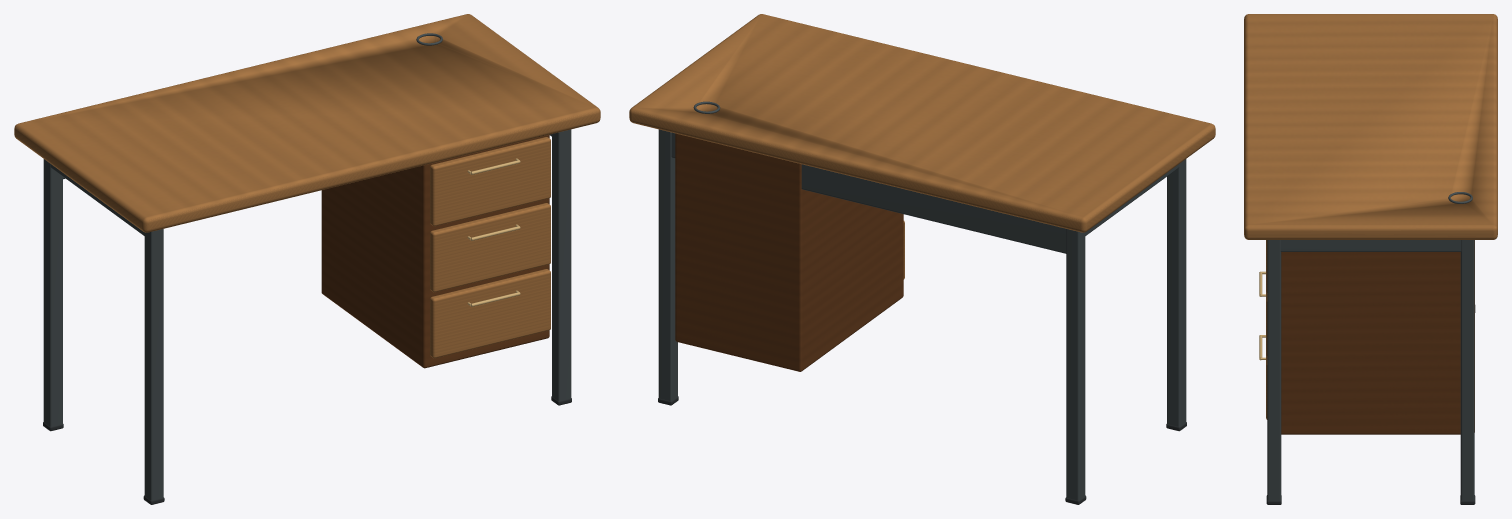
Rendered from desk.glb.
The picture shows the model from 3 angles, left to right: view 1: azimuth 30°, elevation 25°; view 2: azimuth 150°, elevation 25°; view 3: azimuth 270°, elevation 25°; orthographic projection. The views are drawn at different scales.
Visible parts, largest first — view 1: GEO-Solid oak desktop, GEO-Drawer cabinet, GEO-Floating drawer front, GEO-Floating drawer front.001, GEO-Floating drawer front.002, GEO-Square section steel leg.002, GEO-Square section steel leg, GEO-Square section steel leg.001; view 2: GEO-Solid oak desktop, GEO-Drawer cabinet, GEO-Rear cross rail, GEO-Square section steel leg.001, GEO-Square section steel leg, GEO-Square section steel leg.003; view 3: GEO-Solid oak desktop, GEO-Drawer cabinet, GEO-Square section steel leg.002, GEO-Square section steel leg.003, GEO-Side structural rail.001.
Boxes of the visible parts, box(x1,y1,x2,y2) form: GEO-Solid oak desktop: box(14, 14, 600, 232); GEO-Drawer cabinet: box(321, 134, 549, 368); GEO-Floating drawer front: box(430, 269, 550, 358); GEO-Floating drawer front.001: box(430, 203, 550, 292); GEO-Floating drawer front.002: box(430, 137, 550, 226); GEO-Square section steel leg.002: box(552, 129, 571, 400); GEO-Square section steel leg: box(144, 229, 163, 500); GEO-Square section steel leg.001: box(43, 159, 62, 426); GEO-Solid oak desktop: box(629, 14, 1215, 232); GEO-Drawer cabinet: box(675, 133, 903, 371); GEO-Rear cross rail: box(671, 132, 1066, 253); GEO-Square section steel leg.001: box(1066, 229, 1085, 500); GEO-Square section steel leg: box(1167, 159, 1186, 426); GEO-Square section steel leg.003: box(658, 129, 677, 400); GEO-Solid oak desktop: box(1244, 14, 1497, 239); GEO-Drawer cabinet: box(1281, 240, 1474, 434); GEO-Square section steel leg.002: box(1267, 240, 1281, 500); GEO-Square section steel leg.003: box(1460, 240, 1474, 500); GEO-Side structural rail.001: box(1280, 240, 1461, 251).
Bounding box in the file's own units: 1.2 × 0.7536 × 0.6.
5 materials, 2 textured.
